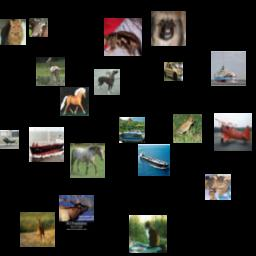airplane: (214, 113, 252, 151), (0, 130, 19, 149)
automobile: (119, 117, 145, 143), (164, 62, 183, 81)
cat: (129, 215, 167, 253), (104, 18, 142, 56), (205, 174, 231, 200), (0, 19, 26, 45)
deer: (59, 195, 94, 230), (20, 212, 55, 247), (36, 57, 65, 86)
dog: (151, 11, 186, 46), (94, 69, 120, 95)
frog: (173, 114, 202, 143), (29, 18, 48, 37)
ship: (211, 51, 246, 86), (29, 127, 64, 162), (138, 144, 170, 176)
